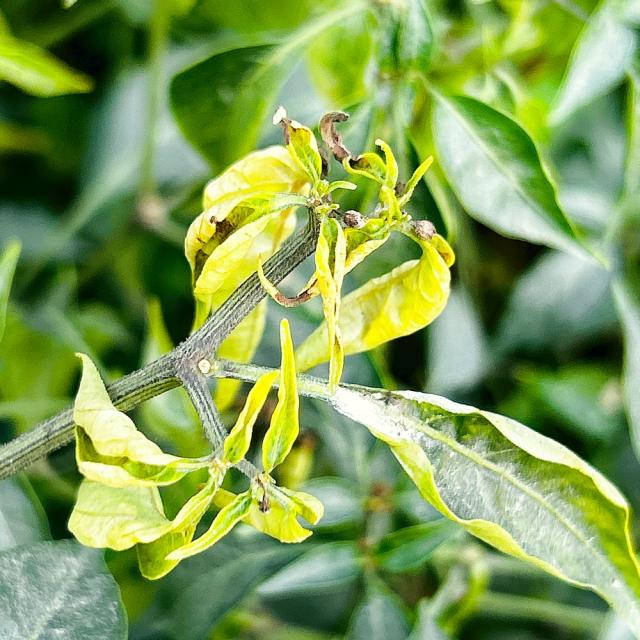Chilli_Leaf_Curl: (2, 3, 637, 636), (63, 107, 456, 580), (276, 370, 639, 637), (183, 108, 455, 394), (66, 318, 324, 580), (416, 72, 612, 271), (260, 317, 301, 473)
